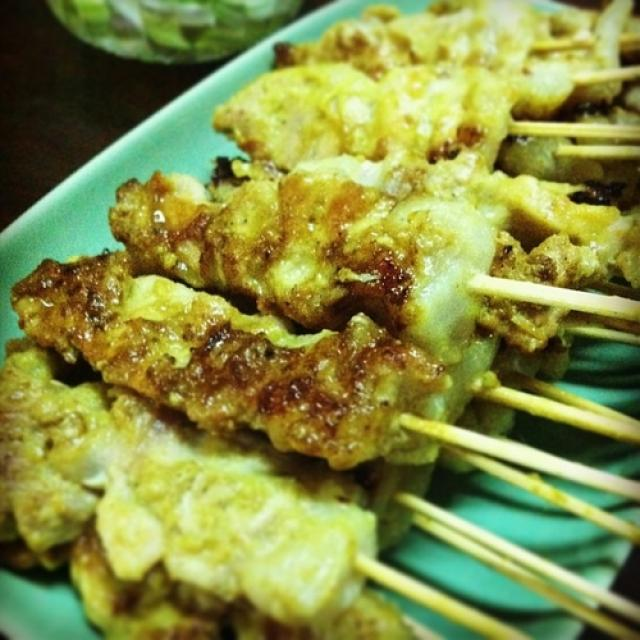牛肉菜式: (19, 21, 630, 618)
